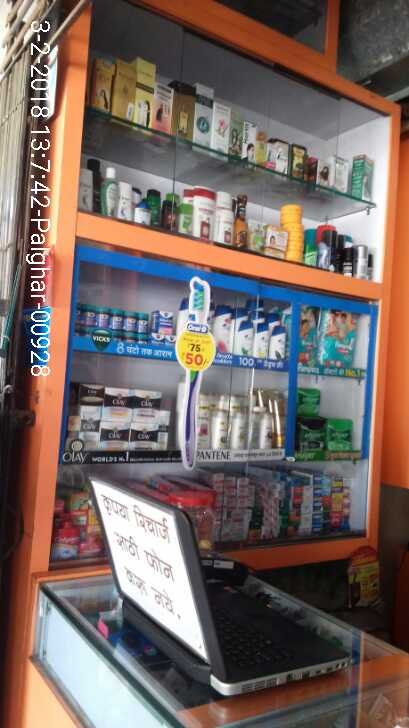vicks: (77, 306, 174, 345)
